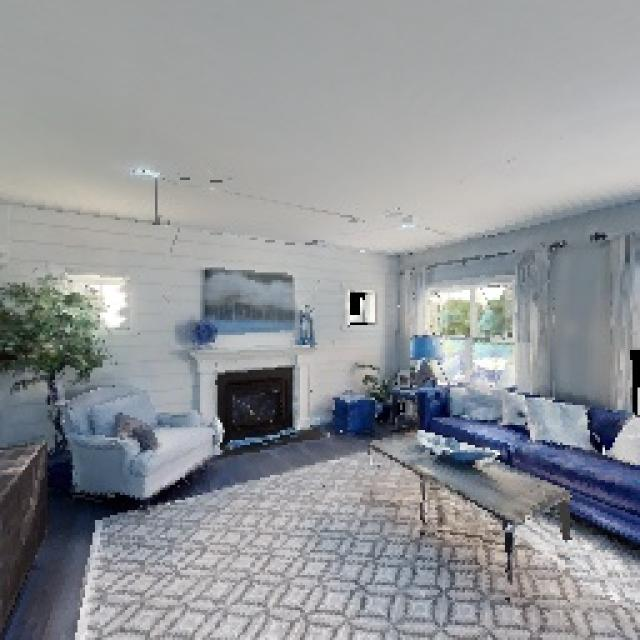sofa: (422, 361, 640, 585), (47, 331, 241, 533)
table: (361, 408, 599, 607)
